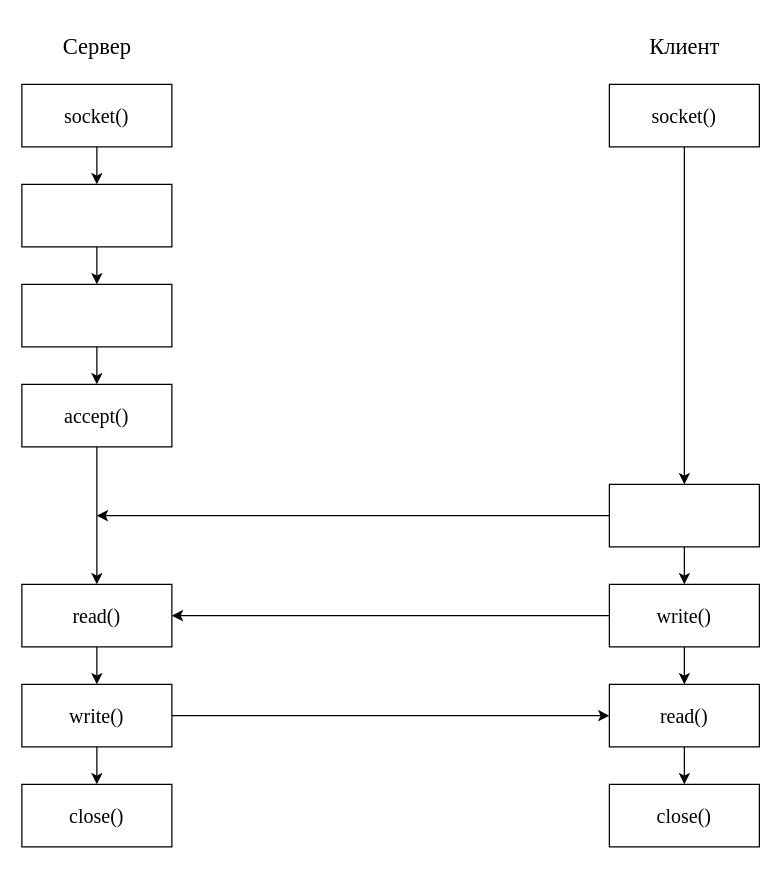
This 781x869 diagram has some shape labels left out. The shapes that lost their labels are listed below. From the top down, each one's centre as x and y in pixels, then its label:
At point 96,215: "bind()".
At point 96,315: "listen()".
At point 683,515: "connect()".
